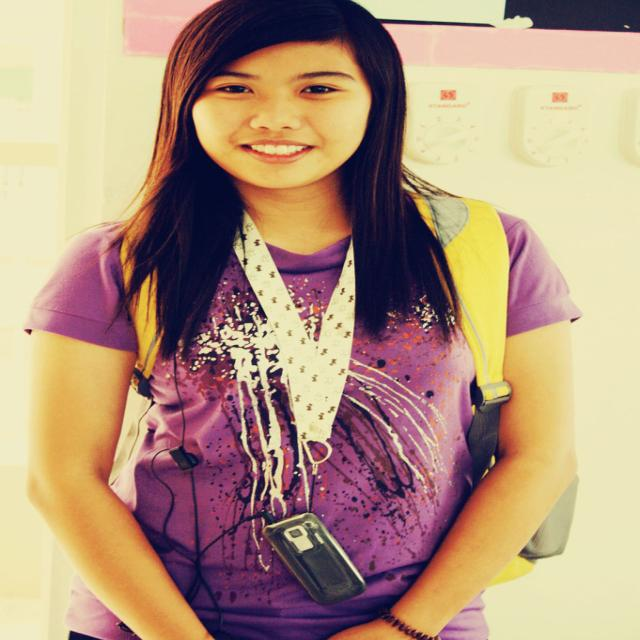Mobile-phone: (261, 522, 366, 600)
